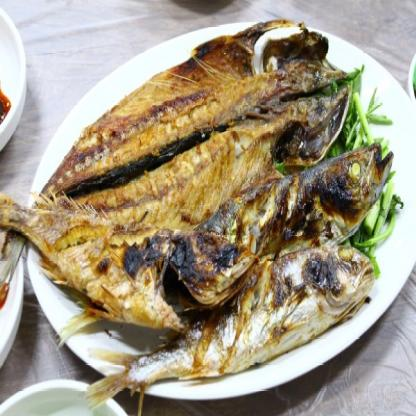Peixe: (0, 24, 380, 394)
